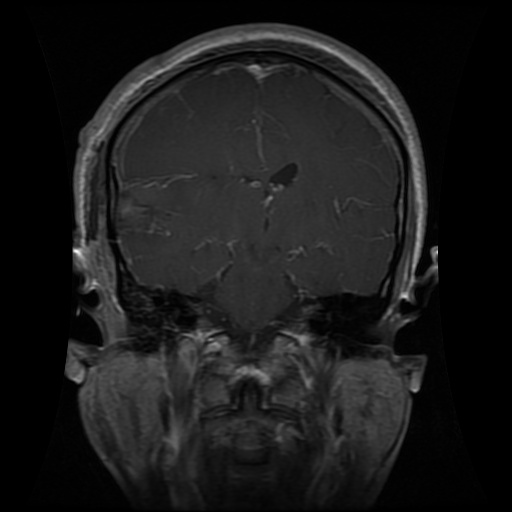glioma: (116, 174, 174, 235)
